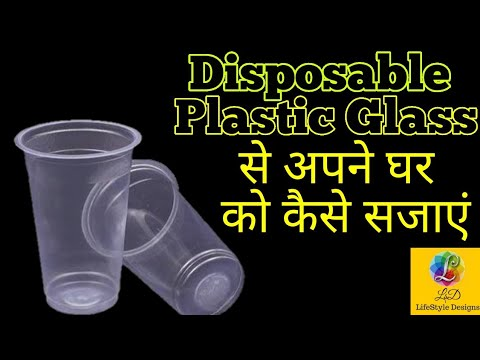plastic_bottle: (12, 117, 141, 318)
